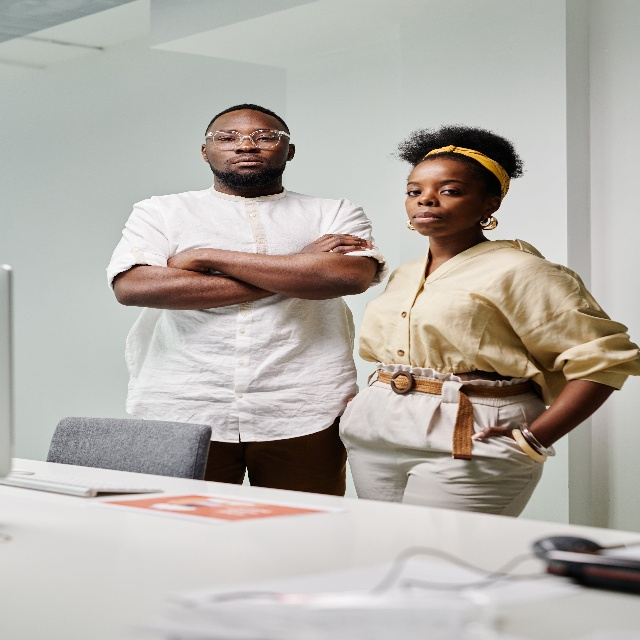Gafas: (208, 130, 283, 151)
Sin_guantes: (299, 227, 374, 252), (166, 247, 228, 276)
